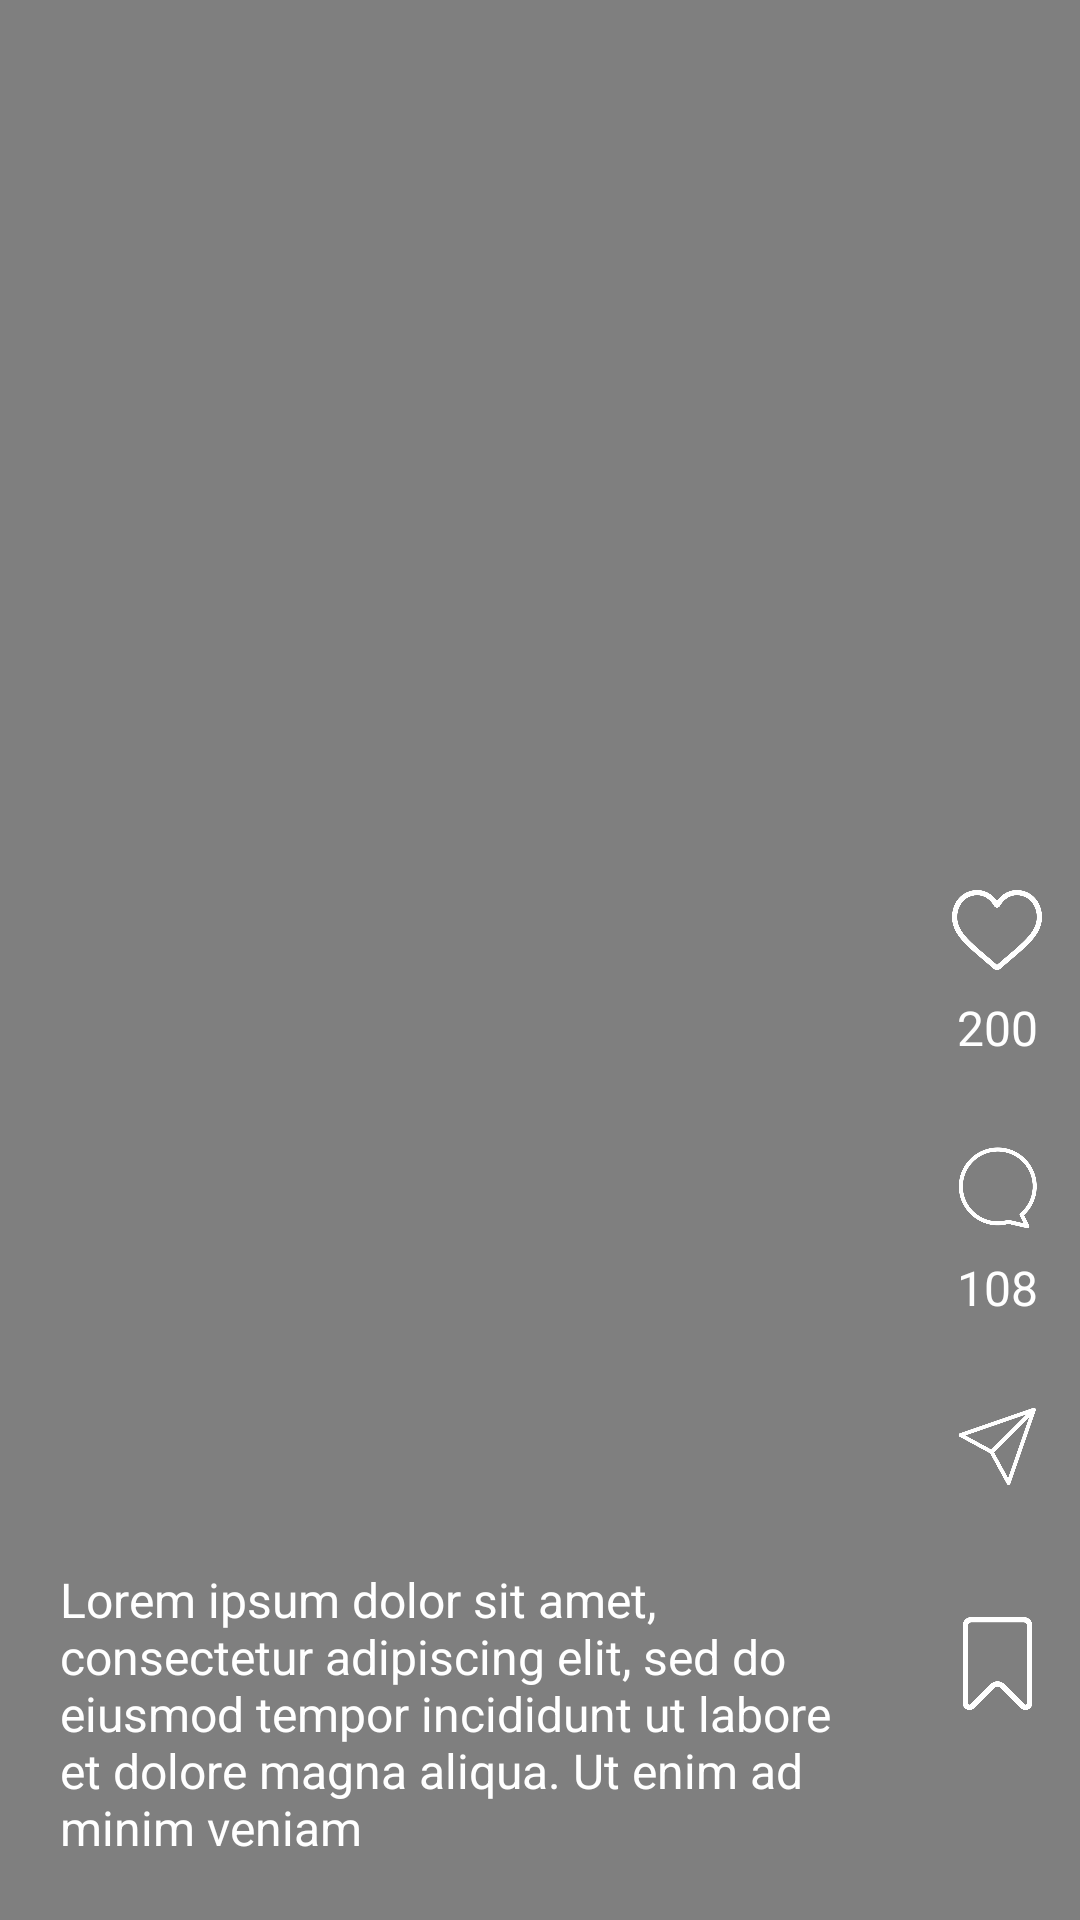

Icon click points for this 1080px×1920px phone screenshot, format [x,y]:
comment: [998,1187]
like: [997,930]
save: [997,1663]
share: [997,1446]
